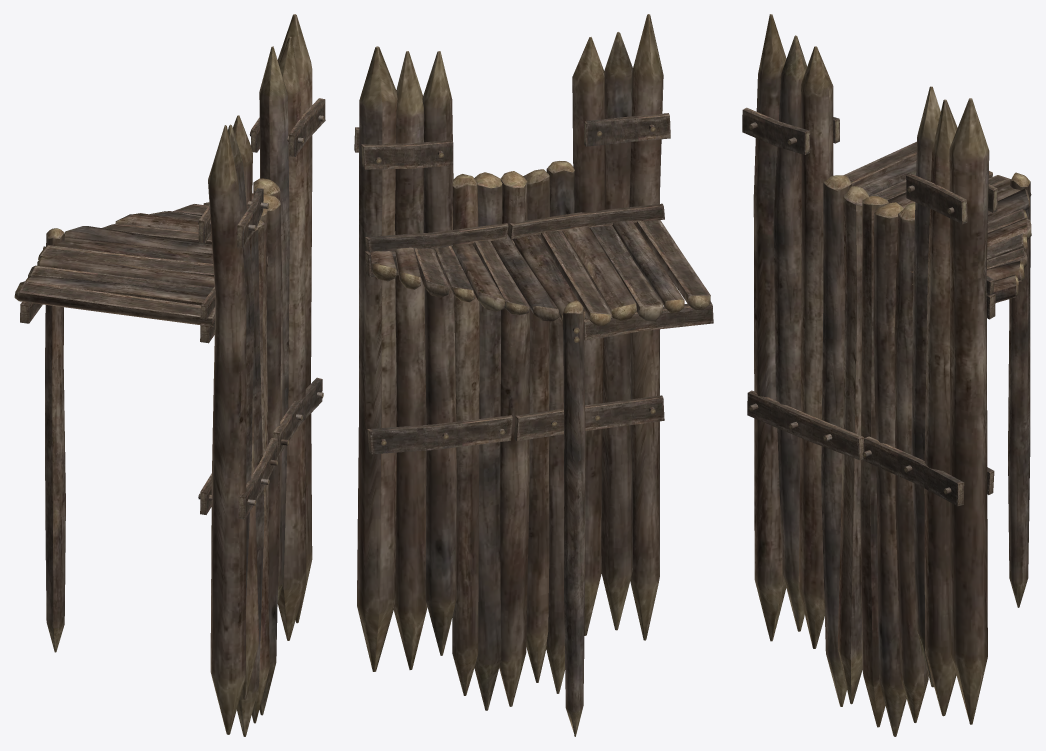
File: jav_struc_def_log_t1_wall_diag_rampart_ina-transformed.glb
The picture shows the model from 3 angles, left to right: view 1: azimuth 30°, elevation 25°; view 2: azimuth 150°, elevation 25°; view 3: azimuth 270°, elevation 25°; orthographic projection. The views are drawn at different scales.
Visible parts, largest first — view 1: default; view 2: default; view 3: default.
Boxes of the visible parts, <box> form: default: <box>14,14,325,736</box>; default: <box>354,14,713,736</box>; default: <box>742,14,1031,736</box>.
Size of the model in its own units: 3.59 by 6.88 by 2.68.
Materials: 1 (1 with a texture image).
